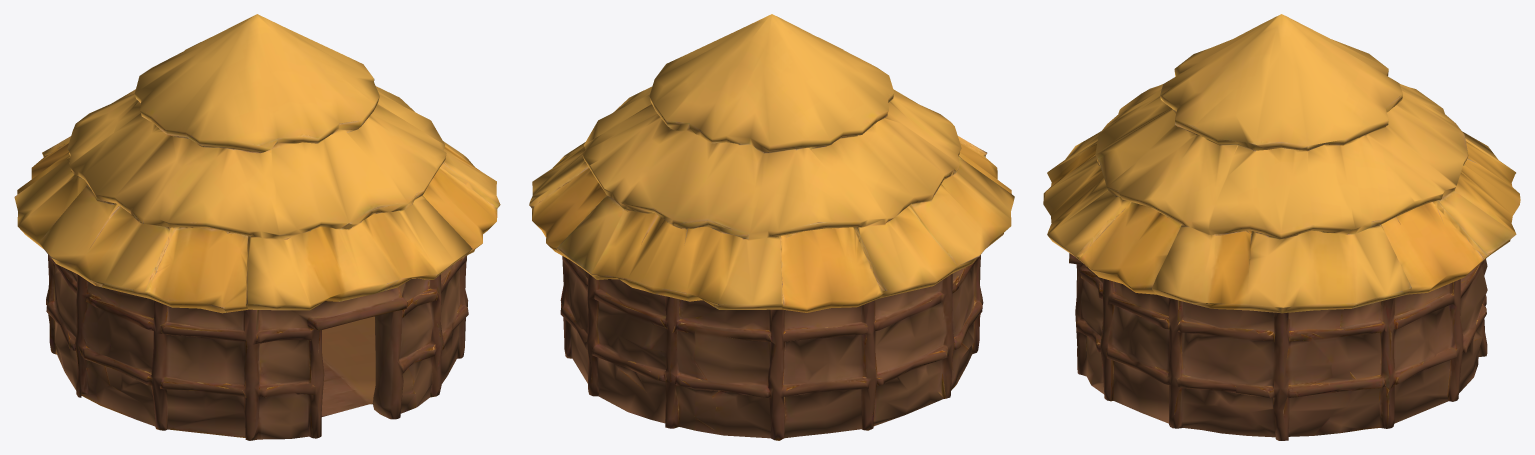
Rendered from hut.glb.
3 renders of one model, left to right at view 1: azimuth 30°, elevation 25°; view 2: azimuth 150°, elevation 25°; view 3: azimuth 270°, elevation 25°, orthographic.
Visible parts, largest first — view 1: Mesh_0; view 2: Mesh_0; view 3: Mesh_0.
Part boxes in pixels (x1,y1,x2,y2): Mesh_0: (14, 14, 500, 440); Mesh_0: (529, 14, 1014, 440); Mesh_0: (1043, 14, 1520, 440).
Size of the model in its own units: 1.91 by 1.5 by 1.9.
1 material, 1 textured.
